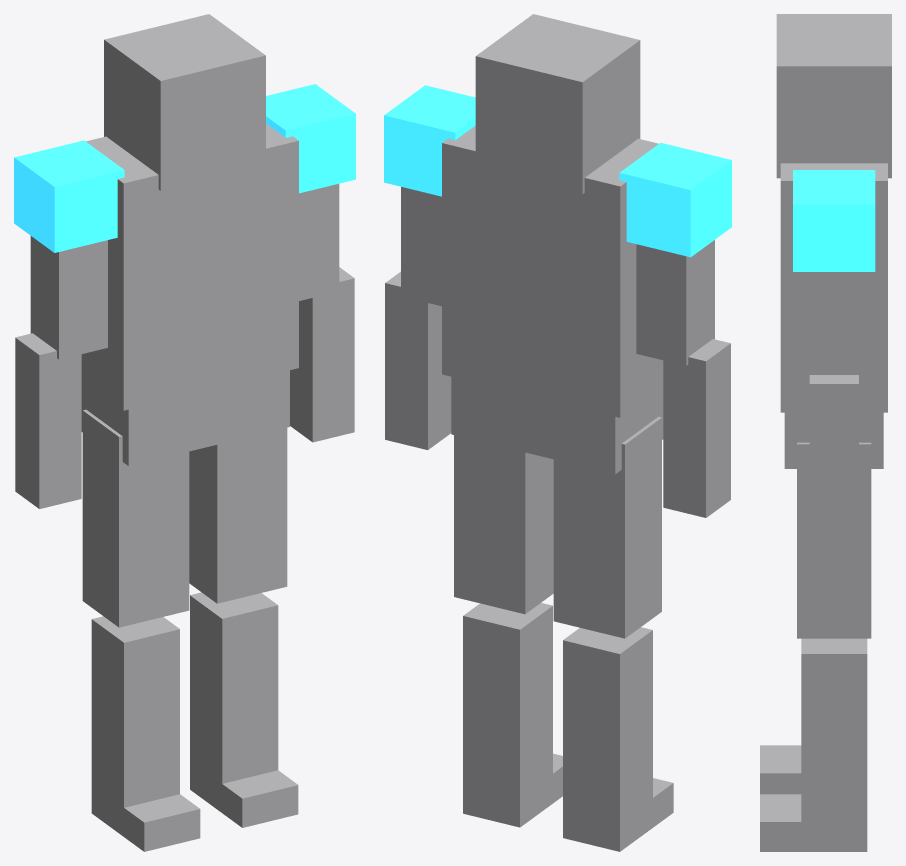
File: shoulders.glb
3 renders of one model, left to right at view 1: azimuth 30°, elevation 25°; view 2: azimuth 150°, elevation 25°; view 3: azimuth 270°, elevation 25°, orthographic.
Parts seen in each view (by area): view 1: Mannequin; view 2: Mannequin; view 3: Mannequin.
Boxes of the visible parts, x1=… form: Mannequin: x1=14, y1=14, x2=355, y2=851; Mannequin: x1=384, y1=14, x2=731, y2=851; Mannequin: x1=760, y1=14, x2=891, y2=851.
Size of the model in its own units: 0.9 by 2.07 by 0.32.
